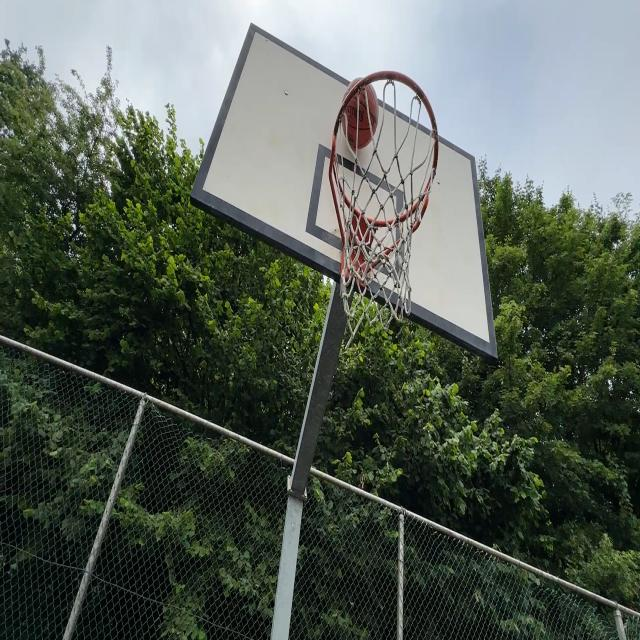rebound_hit: (342, 77, 378, 154)
